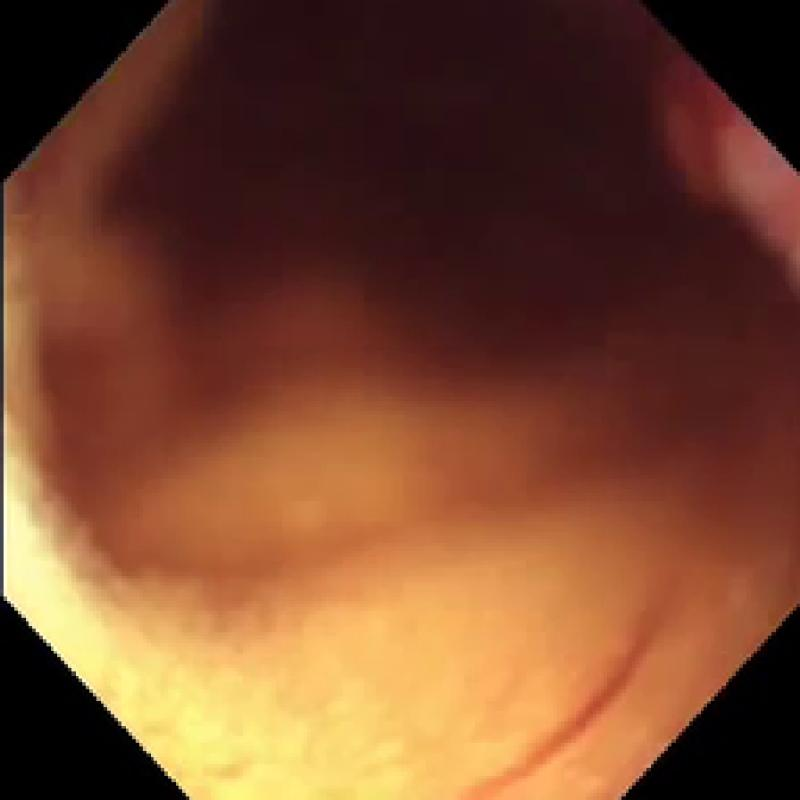bleeding: (175, 7, 800, 464)
